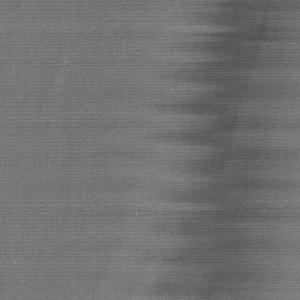Wrinkle: (153, 1, 300, 300)
